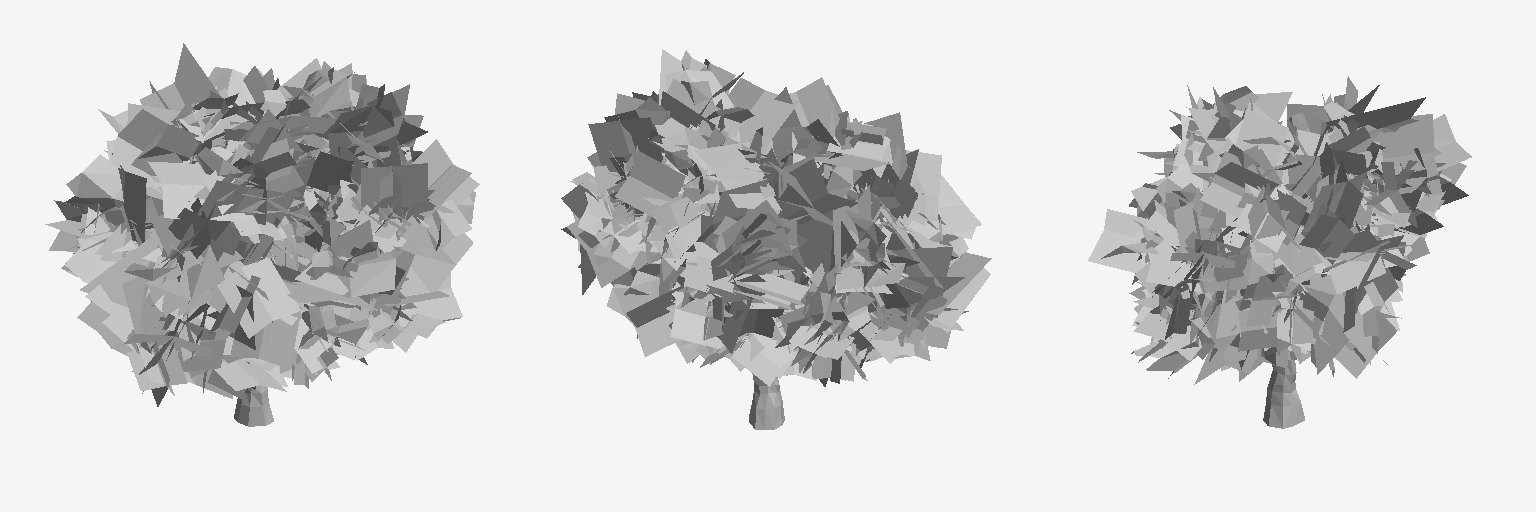
Rendered from tree1.obj.
3 renders of one model, left to right at view 1: azimuth 30°, elevation 25°; view 2: azimuth 150°, elevation 25°; view 3: azimuth 270°, elevation 25°, orthographic.
Visible parts, largest first — view 1: WC_Tree_001; view 2: WC_Tree_001; view 3: WC_Tree_001.
Boxes of the visible parts, x1,y1,x2,y2 form: WC_Tree_001: [45, 43, 479, 426]; WC_Tree_001: [561, 49, 991, 429]; WC_Tree_001: [1088, 76, 1471, 428].
Size of the model in its own units: 34.85 by 29.7 by 31.53.